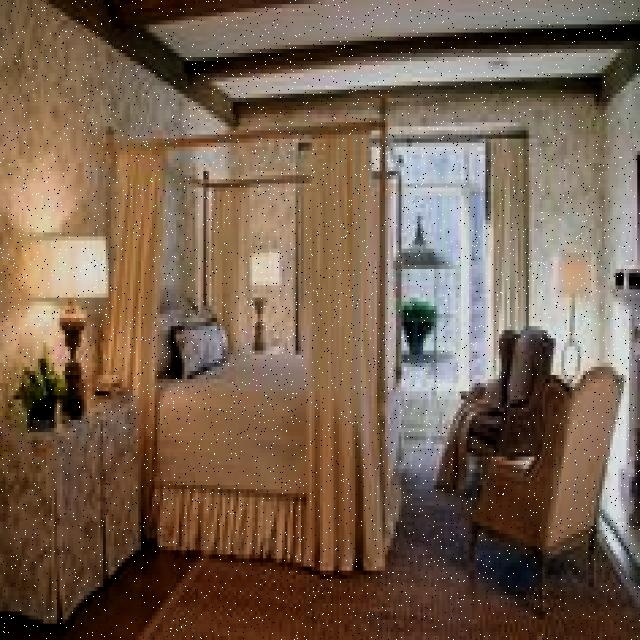bed: (128, 306, 385, 570)
